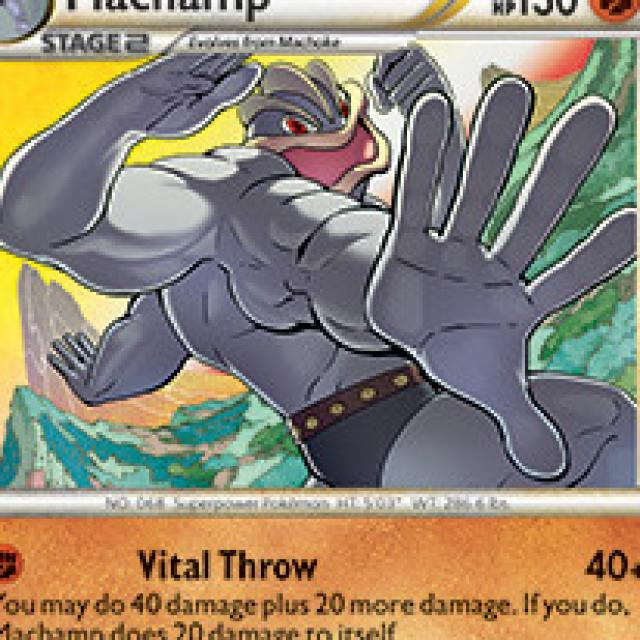Machamp: (88, 59, 600, 492)
